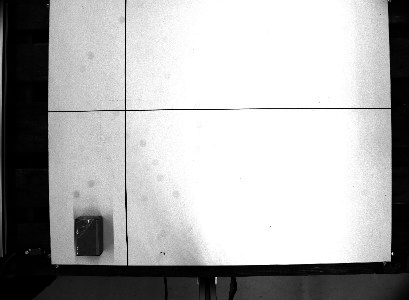b1: (72, 213, 106, 259)
